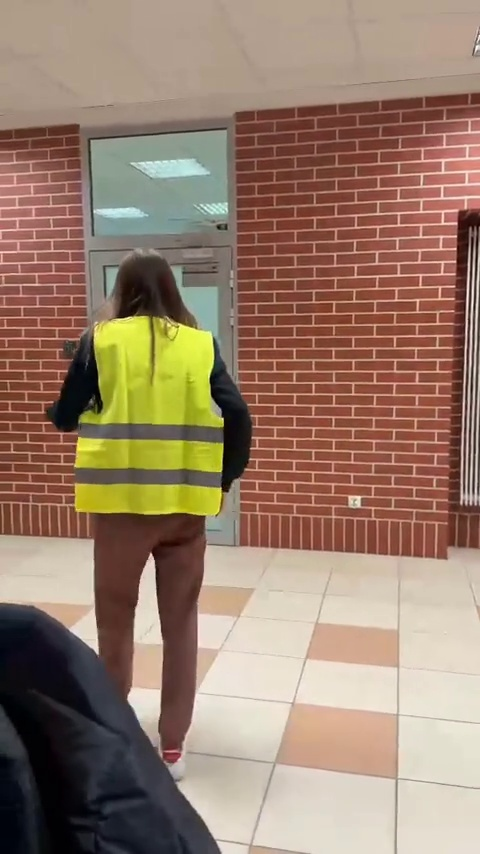vest: (40, 246, 253, 782)
